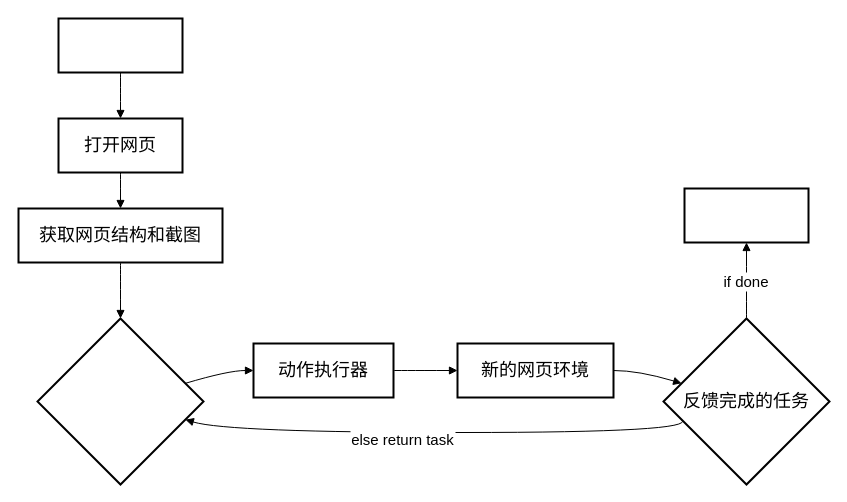
The diagram is 847 pixels wide and 502 high, and some of its shapes have lost their labels. Here are the shapes that lost their labels. From the top down, the box of each, then its label:
(57, 17, 183, 73): 用户指令
(683, 187, 809, 243): 完成任务
(36, 317, 204, 485): 多模态决策引擎
